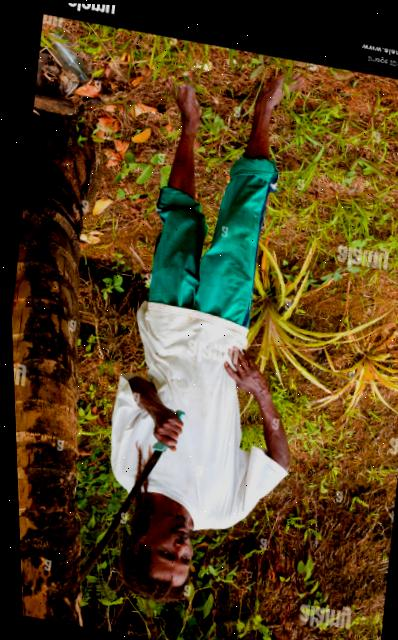long knife: (56, 386, 176, 601)
